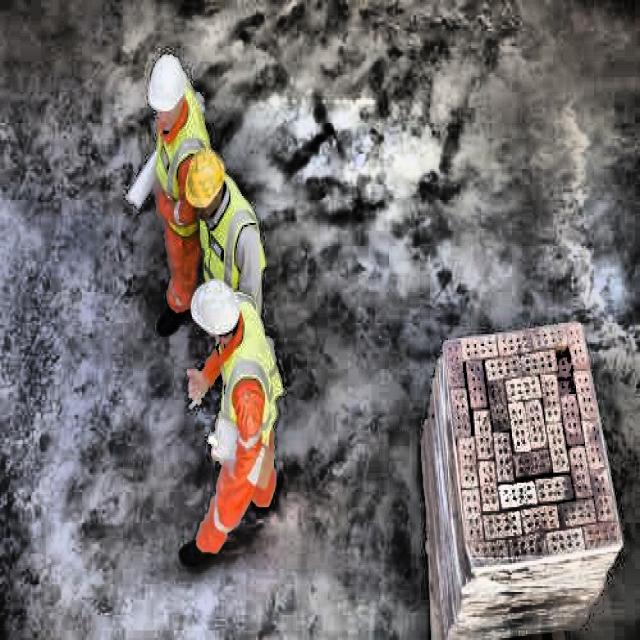helmet: (190, 279, 244, 338), (146, 52, 186, 129), (184, 150, 226, 219)
